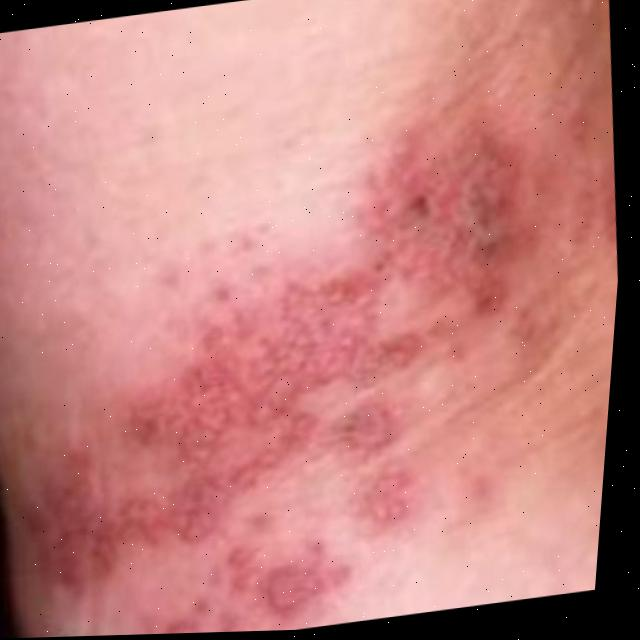Shingles: (33, 147, 582, 638)
